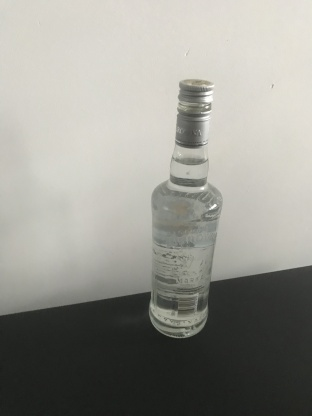nakretka: (174, 77, 214, 149)
